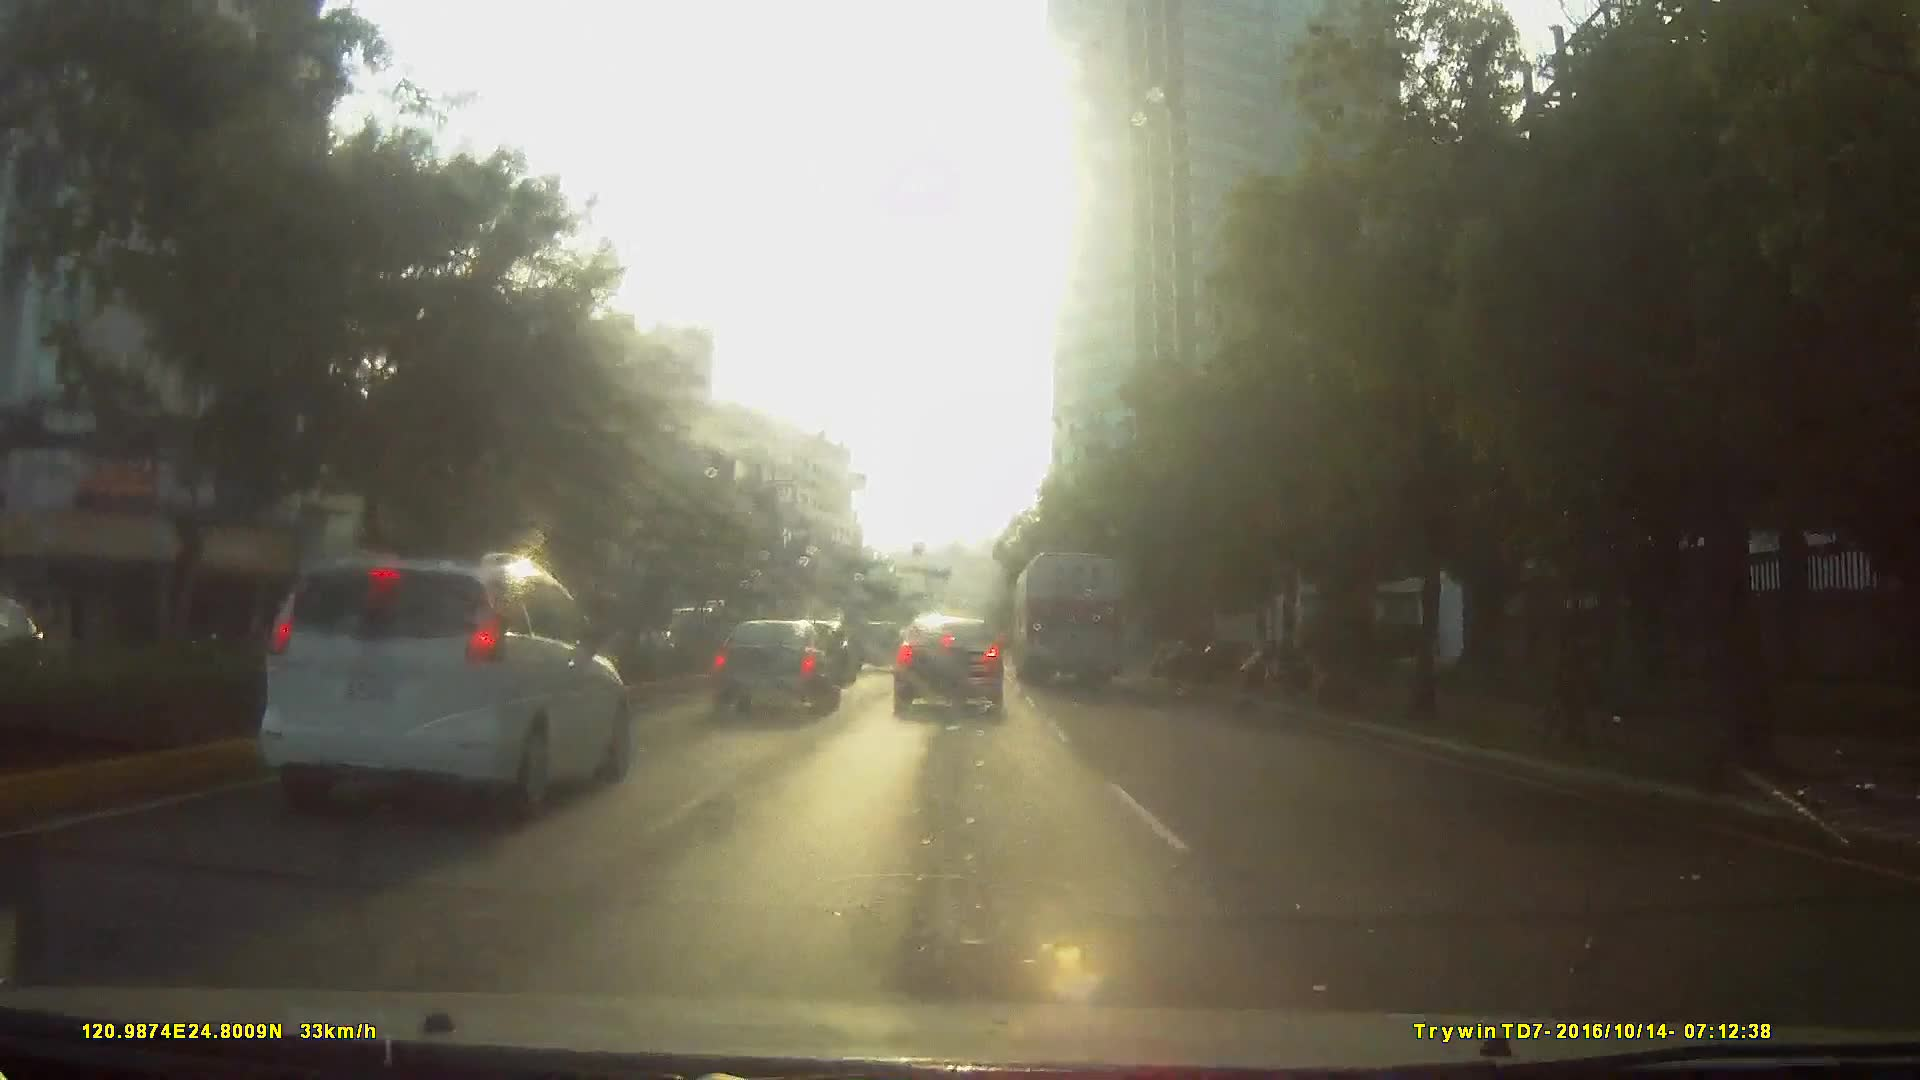vehicle: (251, 556, 684, 868), (233, 549, 640, 828), (1011, 549, 1127, 688), (708, 615, 844, 716), (893, 611, 1007, 717), (849, 617, 905, 674)
